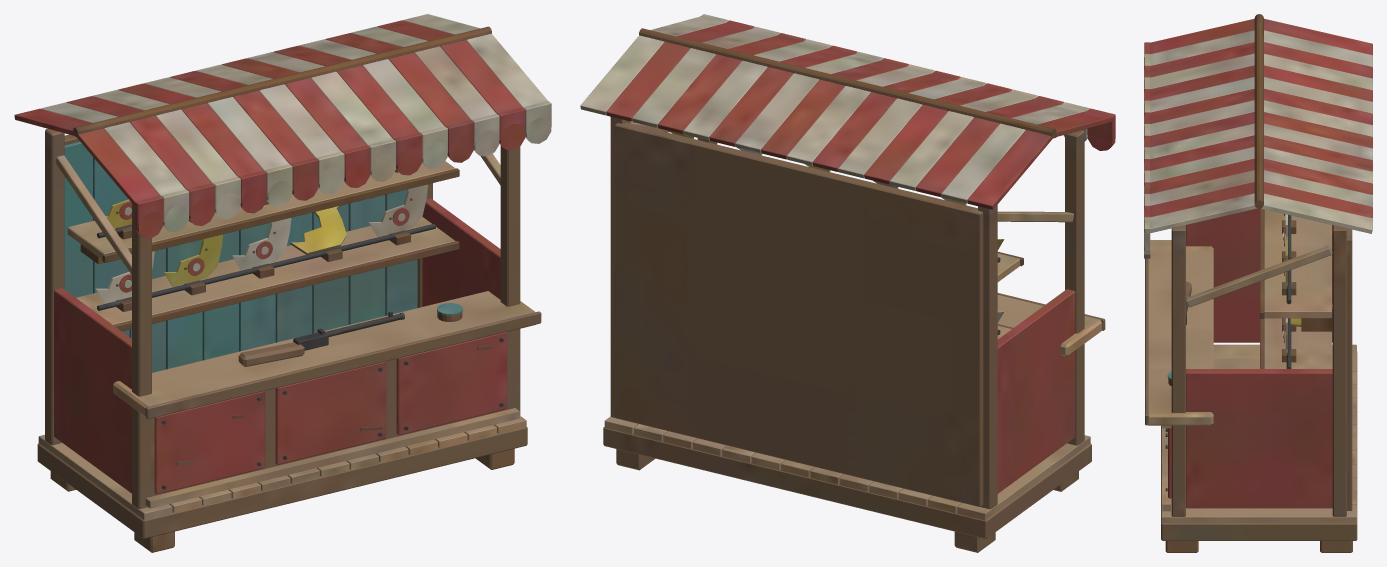
Rendered from C08_shooting_gallery_stall.glb.
The picture shows the model from 3 angles, left to right: view 1: azimuth 30°, elevation 25°; view 2: azimuth 150°, elevation 25°; view 3: azimuth 270°, elevation 25°; orthographic projection. The views are drawn at different scales.
Visible parts, largest first — view 1: Squat timber foot; view 2: Squat timber foot; view 3: Squat timber foot.
Part boxes in pixels (<box>): Squat timber foot: <box>14,14,551,552</box>; Squat timber foot: <box>580,14,1115,552</box>; Squat timber foot: <box>1144,14,1372,552</box>.
Bounding box in the file's own units: 4 × 3.65 × 2.07.
Materials: 9 (9 with a texture image).
